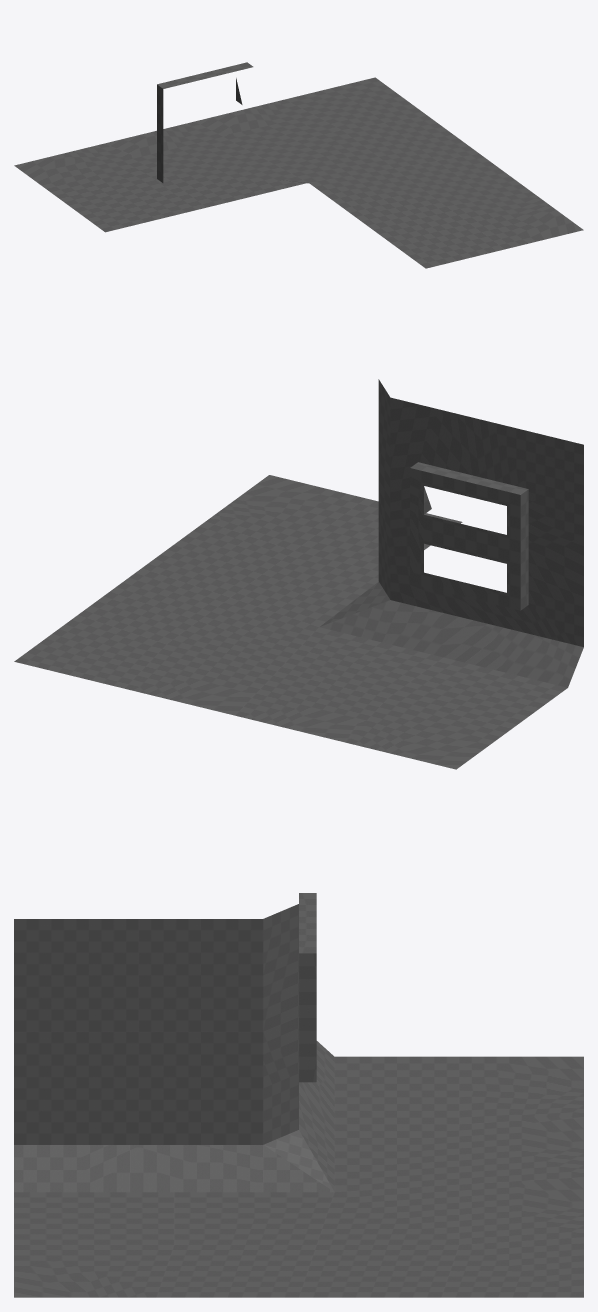
3 views of the same model, one above another, from view 1: azimuth 30°, elevation 25°; view 2: azimuth 150°, elevation 25°; view 3: azimuth 270°, elevation 25° (orthographic). The views are drawn at different scales.
Visible parts, largest first — view 1: 1; view 2: 1; view 3: 1.
Part boxes in pixels (<box>): 1: <box>14,62,583,268</box>; 1: <box>14,379,583,769</box>; 1: <box>14,893,583,1297</box>.
Size of the model in its own units: 4 by 2 by 4.
Materials: 2 (2 with a texture image).
